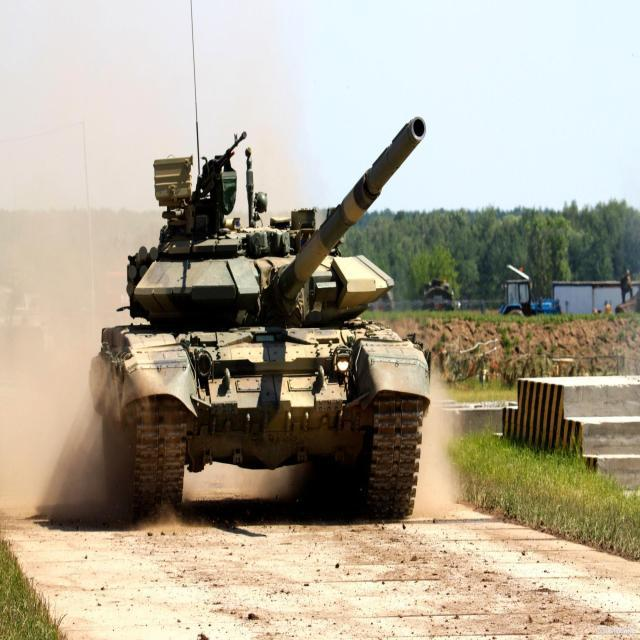MIL_MBT: (75, 119, 443, 562)
